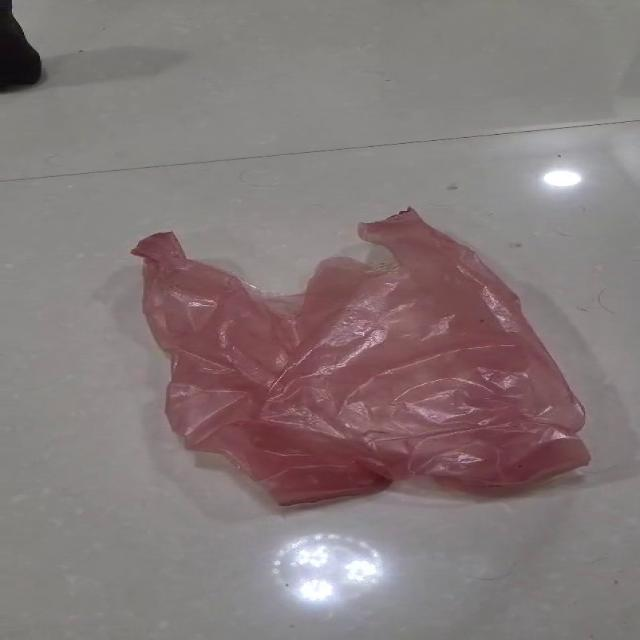plastic: (128, 205, 590, 507)
